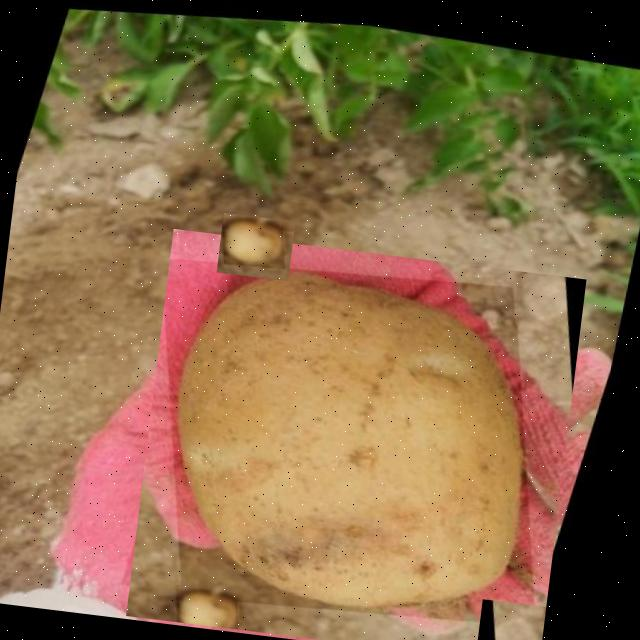Potato: (124, 226, 585, 640), (215, 212, 294, 280), (473, 598, 544, 640)
